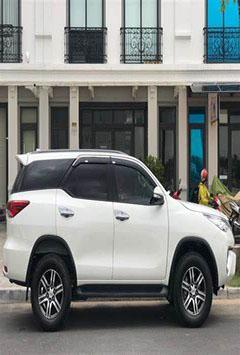car: (0, 138, 239, 333)
